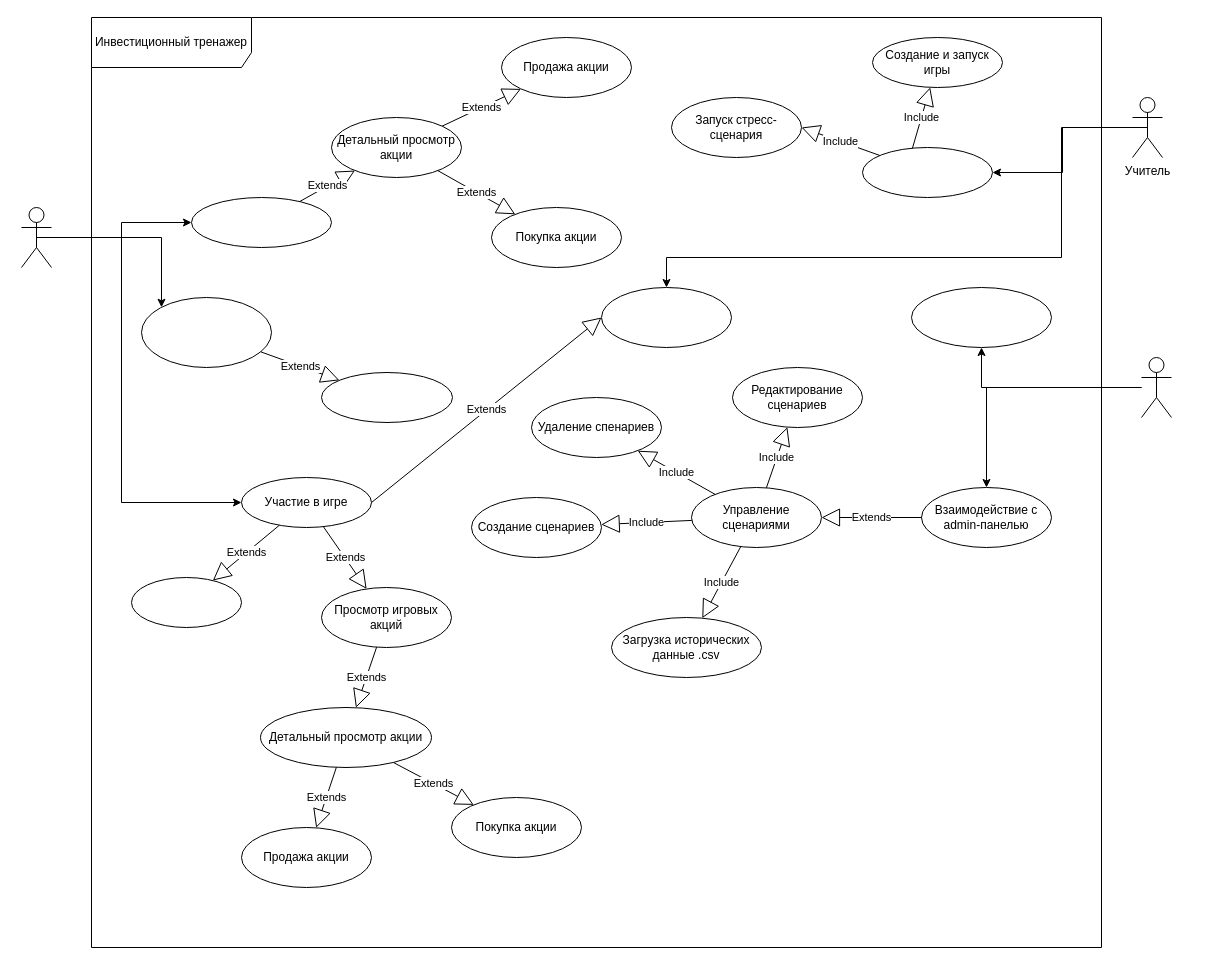
This 1217x965 diagram has some shape labels left out. Here are the shapes that lost their labels. From the top down, the centre of each, then its label:
At point (927, 172): "Управление игрой".
At point (36, 237): "Ученик".
At point (261, 222): "Просмотр акций".
At point (206, 332): "Просмотр основного портфеля".
At point (666, 317): "Просмотр таблицы лидеров".
At point (981, 317): "Обновление акций из api".
At point (386, 397): "Просмотр истории сделок".
At point (1156, 387): "Администратор".
At point (186, 602): "Просмотр игры портфеля".
